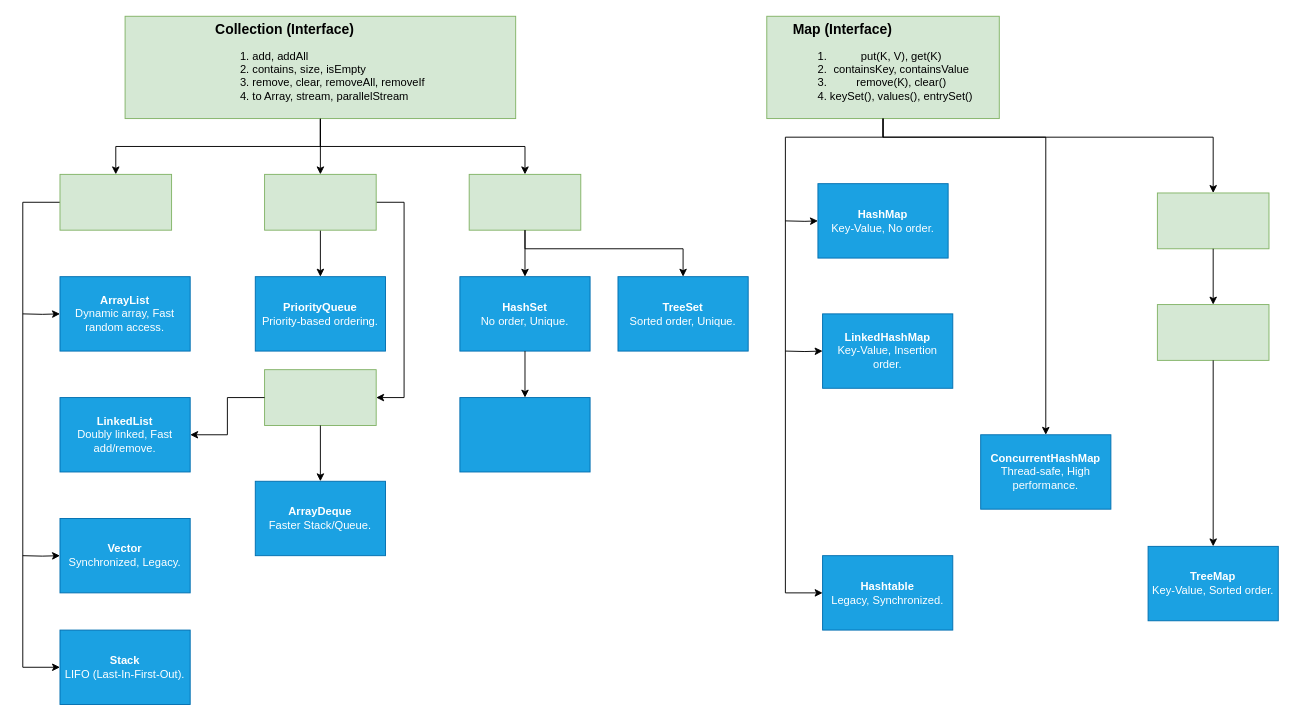
Image size: 1295x721. Some labels were removed from this diagram. The shapes that lost their labels are listed below. From the top down, each one's centre as x and y in pixels, then its label:
At point 115,201: "List".
At point 320,201: "Queue".
At point 524,201: "Set".
At point 1212,220: "SortedMap".
At point 1212,332: "NavigableMap".
At point 320,397: "Deque".
At point 524,434: "LinkedHashSet Insertion order, Unique.".
